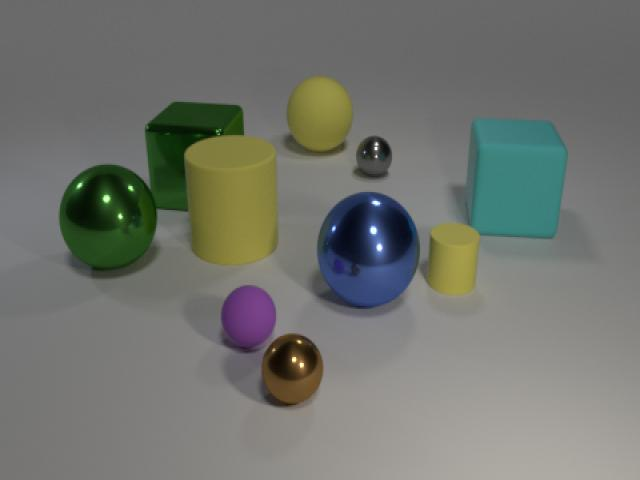cylinder: (182, 132, 284, 270), (428, 220, 481, 300)
round ball: (315, 187, 423, 312), (55, 161, 161, 278), (283, 71, 357, 155), (260, 331, 325, 410), (217, 280, 277, 351), (352, 132, 395, 182)
